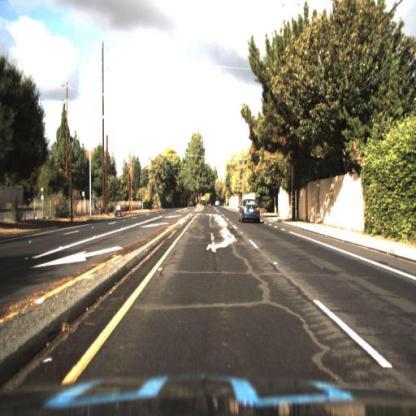car: (237, 197, 264, 226)
